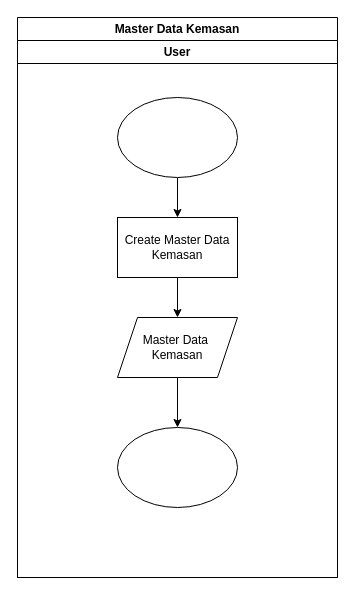
Some shapes in this 355 by 595 pixel diagram are drawn without their labels. The shapes that lost their labels are listed below. From the top down, each one's centre as x and y in pixels, then its label:
At (177,137): "Start".
At (177,467): "End".
